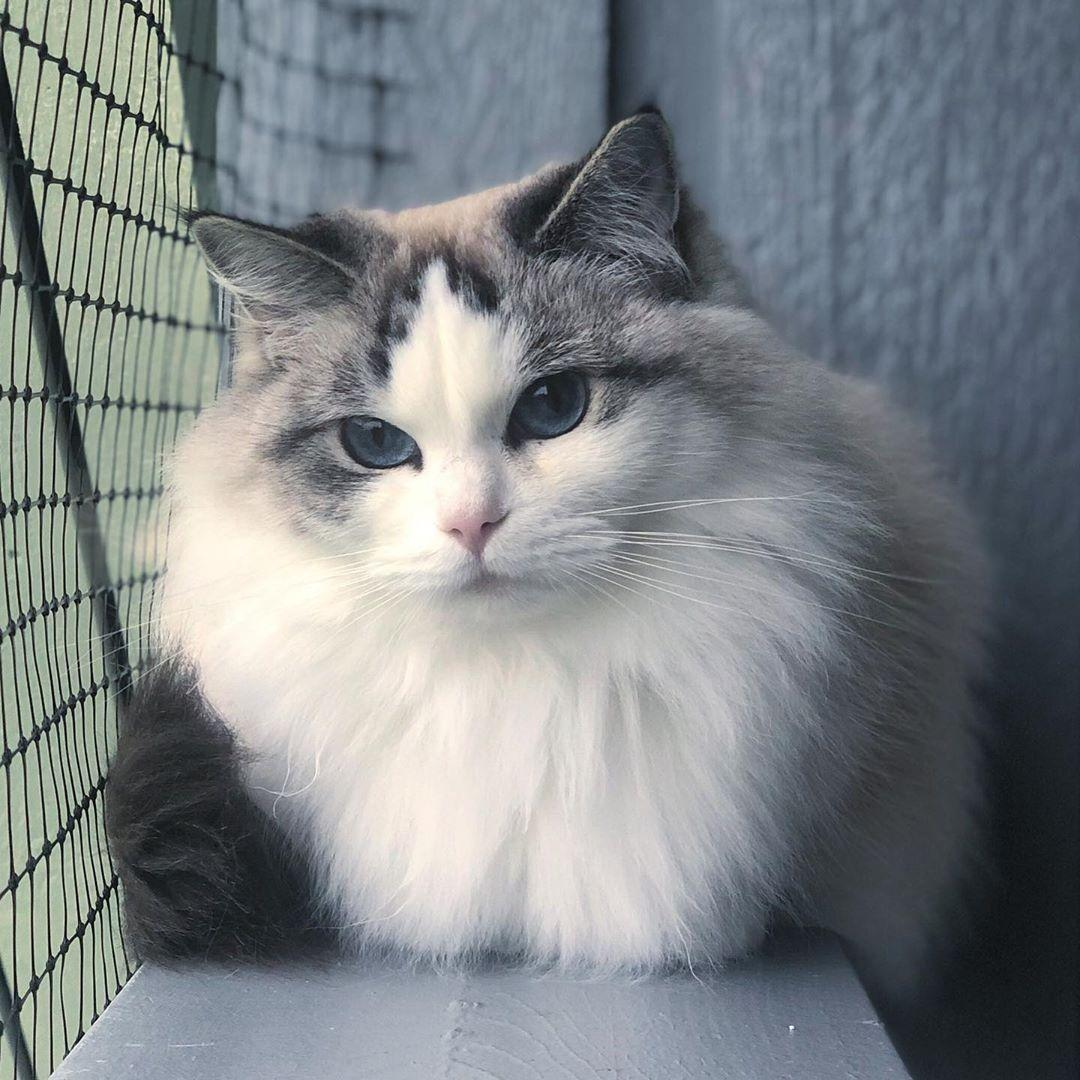ragdoll: (188, 98, 736, 643)
